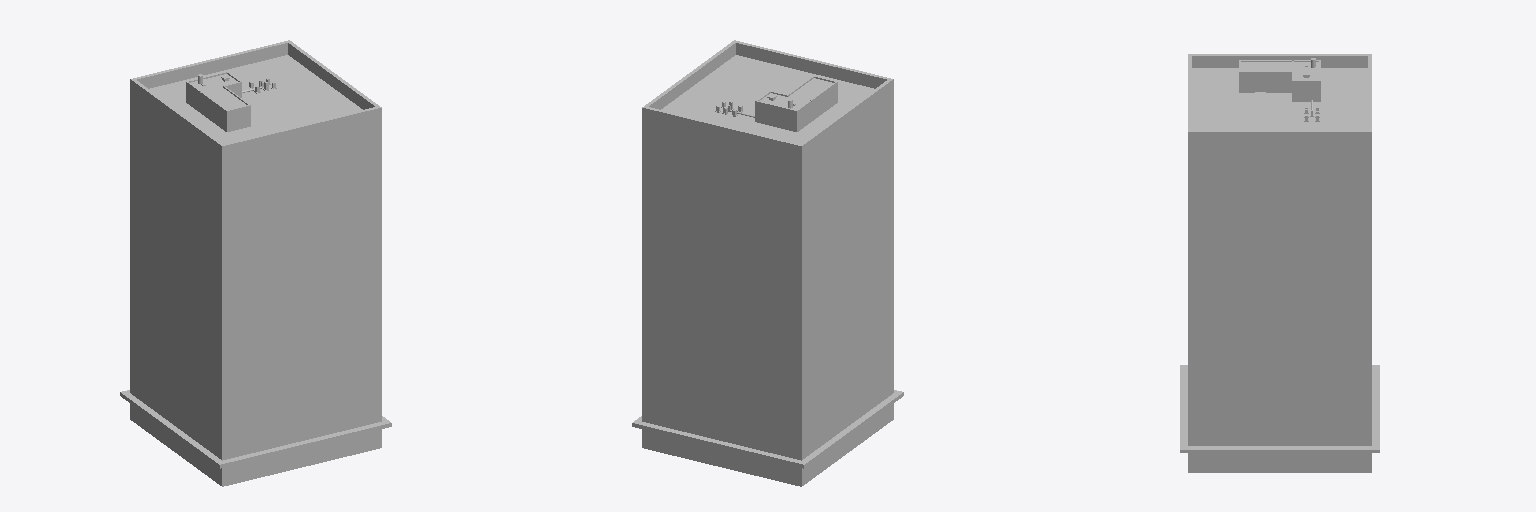
File: budynek6.obj
3 renders of one model, left to right at view 1: azimuth 30°, elevation 25°; view 2: azimuth 150°, elevation 25°; view 3: azimuth 270°, elevation 25°, orthographic.
Visible parts, largest first — view 1: Residential1_Cube.016; view 2: Residential1_Cube.016; view 3: Residential1_Cube.016.
Boxes of the visible parts, x1=… form: Residential1_Cube.016: x1=120, y1=40, x2=391, y2=486; Residential1_Cube.016: x1=632, y1=40, x2=903, y2=486; Residential1_Cube.016: x1=1180, y1=54, x2=1379, y2=472.
Bounding box in the file's own units: 2.16 × 4.27 × 2.16.